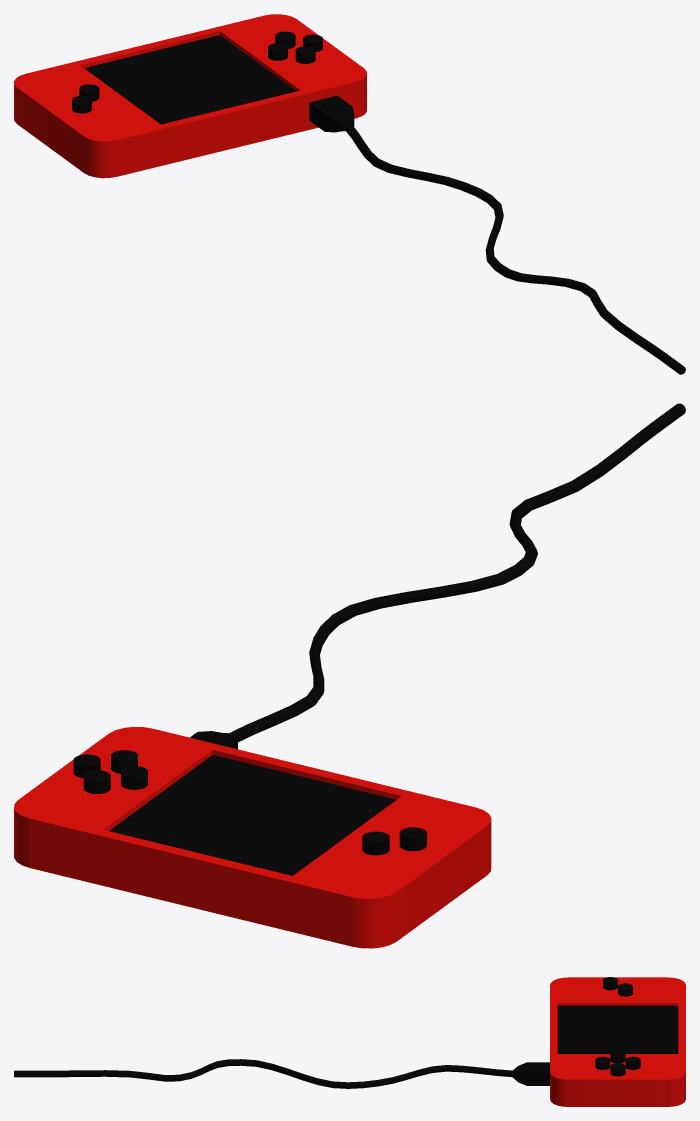
The model's file is GameBoySex.fbx.
3 views of the same model, one above another, from view 1: azimuth 30°, elevation 25°; view 2: azimuth 150°, elevation 25°; view 3: azimuth 270°, elevation 25° (orthographic). The views are drawn at different scales.
Parts seen in each view (by area): view 1: Case2, Case1, Wire; view 2: Case2, Wire, Case1; view 3: Case2, Wire, Case1.
Part boxes in pixels (box(x1,y1,x2,y2)): Case2: box(14, 14, 366, 141); Case1: box(14, 75, 366, 178); Wire: box(309, 95, 685, 374); Case2: box(14, 727, 491, 946); Wire: box(190, 403, 685, 749); Case1: box(14, 808, 491, 948); Case2: box(550, 977, 685, 1079); Wire: box(14, 1059, 549, 1088); Case1: box(550, 1072, 685, 1106).
Size of the model in its own units: 1600 by 250 by 4450.
